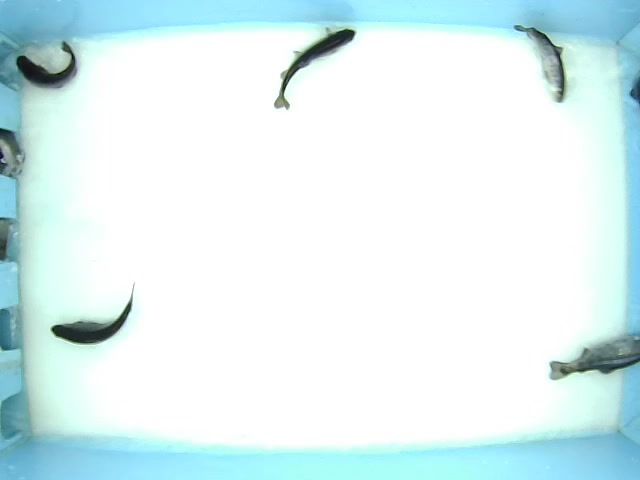fish: (268, 19, 370, 120), (43, 275, 143, 369), (512, 16, 572, 104), (16, 45, 96, 96)
